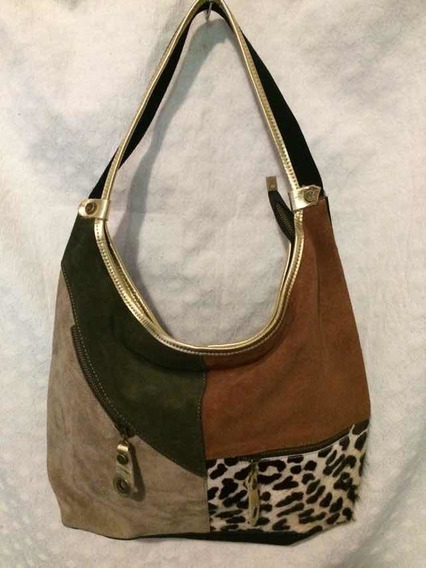cartera: (44, 1, 372, 544)
